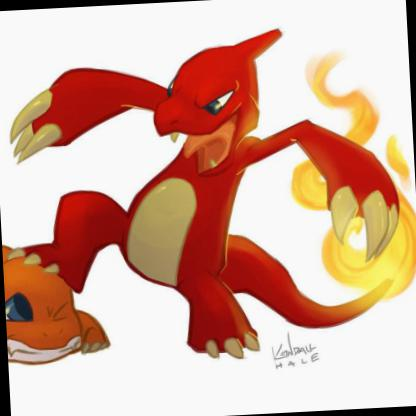Glutexo: (17, 0, 415, 415)
